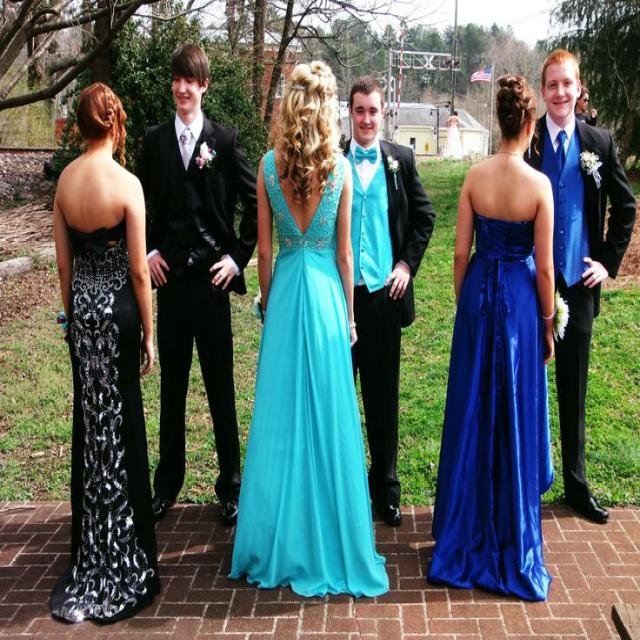body: (232, 56, 393, 603), (428, 68, 571, 604), (47, 78, 164, 627), (139, 41, 264, 534), (523, 49, 638, 525), (336, 73, 436, 530), (444, 110, 464, 161), (577, 87, 598, 125)
